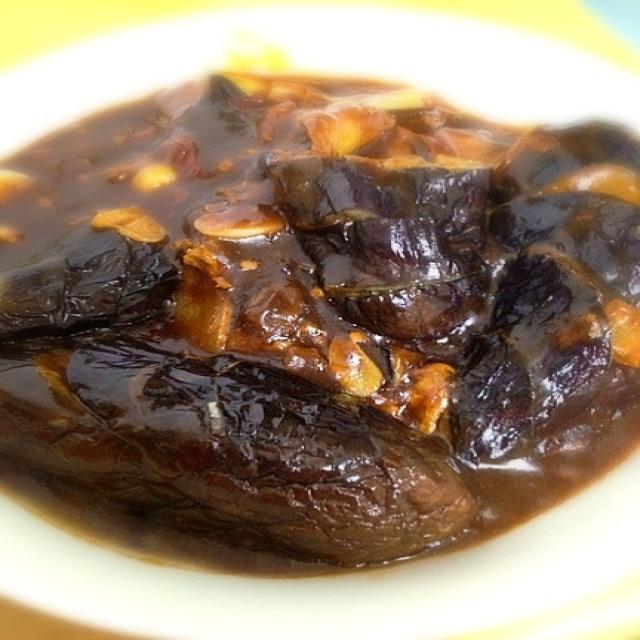鸡蛋料理: (8, 14, 636, 584)
